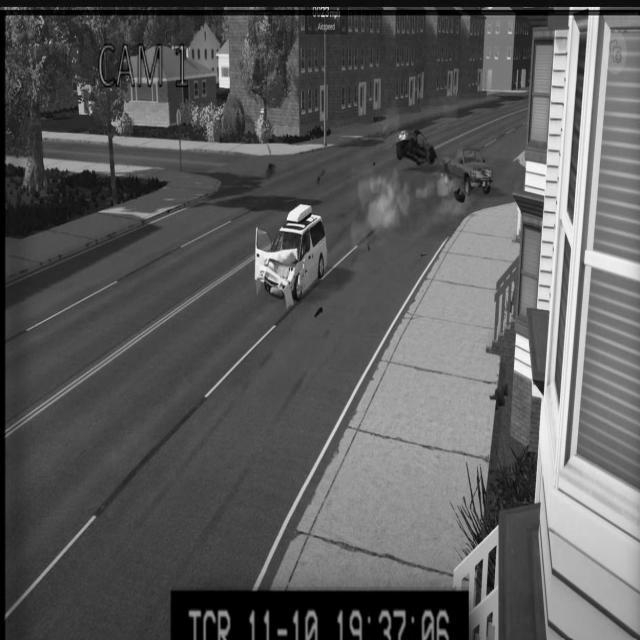accident: (252, 203, 330, 311), (442, 139, 494, 205), (392, 118, 438, 174)
